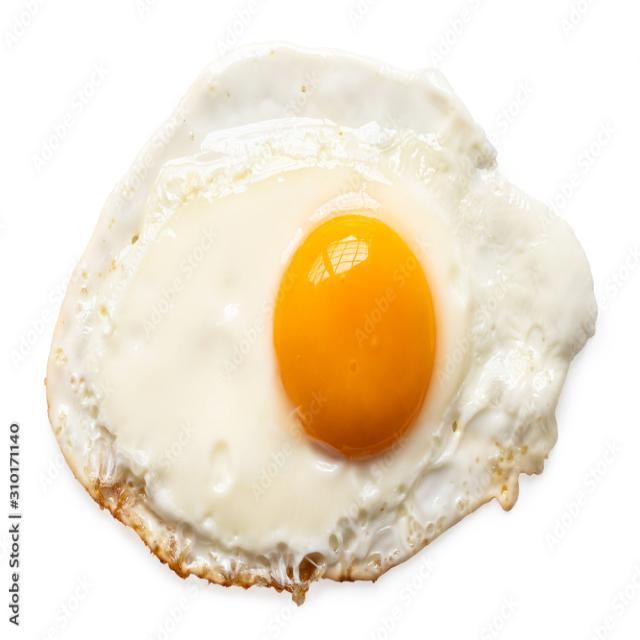Egg: (46, 45, 596, 603)
